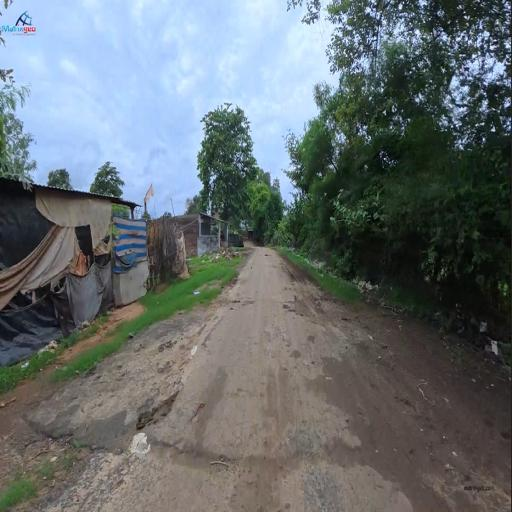longitudinal_crack: (143, 421, 392, 487)
